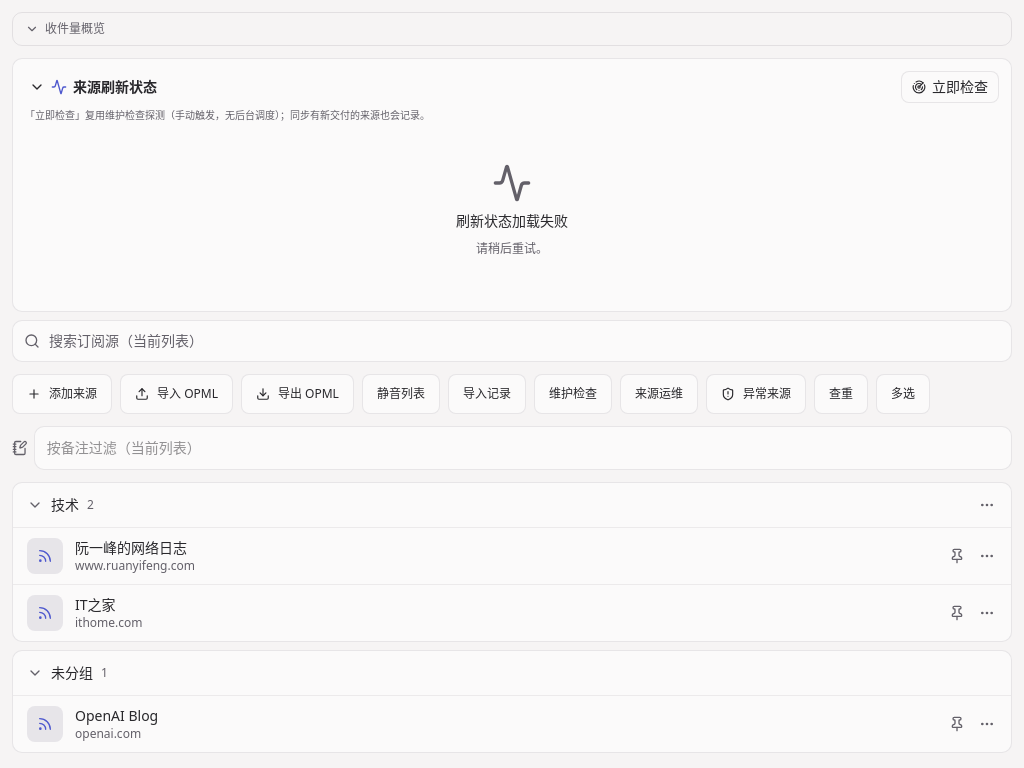
Test case: SubscriptionsPage（AC11） › 真实分类分组：技术（2）+ 未分组（1）；点击折叠隐藏列表
Expected: the text "阮一峰的网络日志" is shown, [75,538,187,556]
Expected: the button "未分组 1" is shown, [13,650,1011,694]
Click the button "技术 2".
click(35, 504)  # box [13,482,971,526]
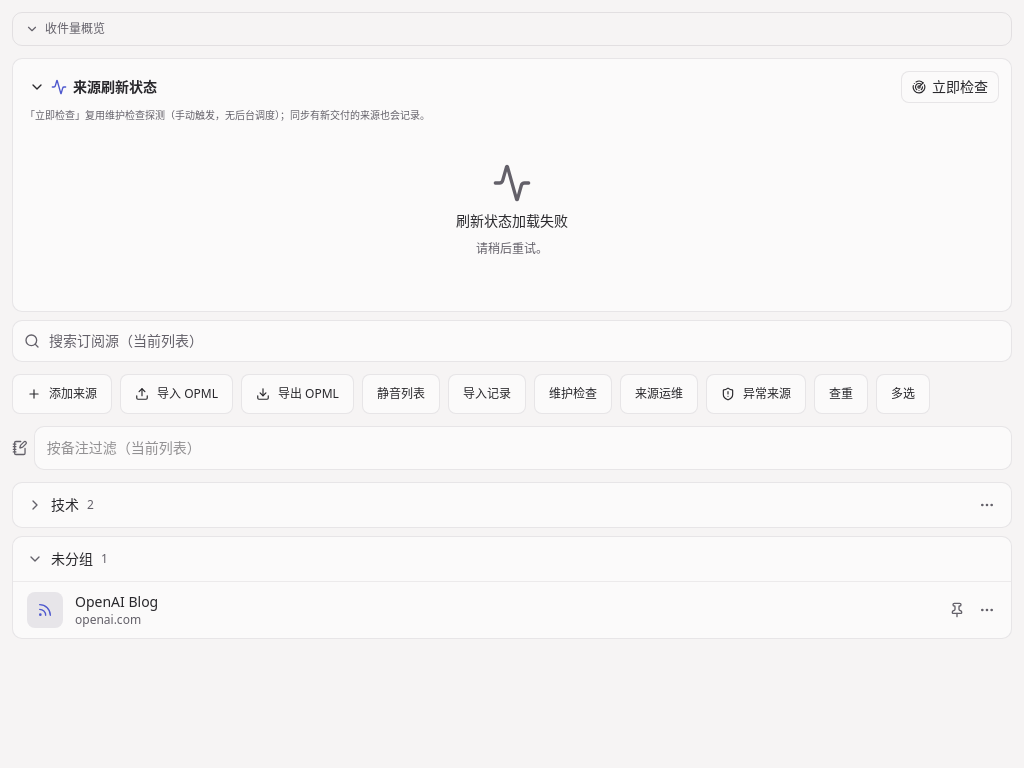
Expected: the text "OpenAI Blog" is shown, [75,592,158,610]
Expected: the button "阮一峰的网络日志" is gone
